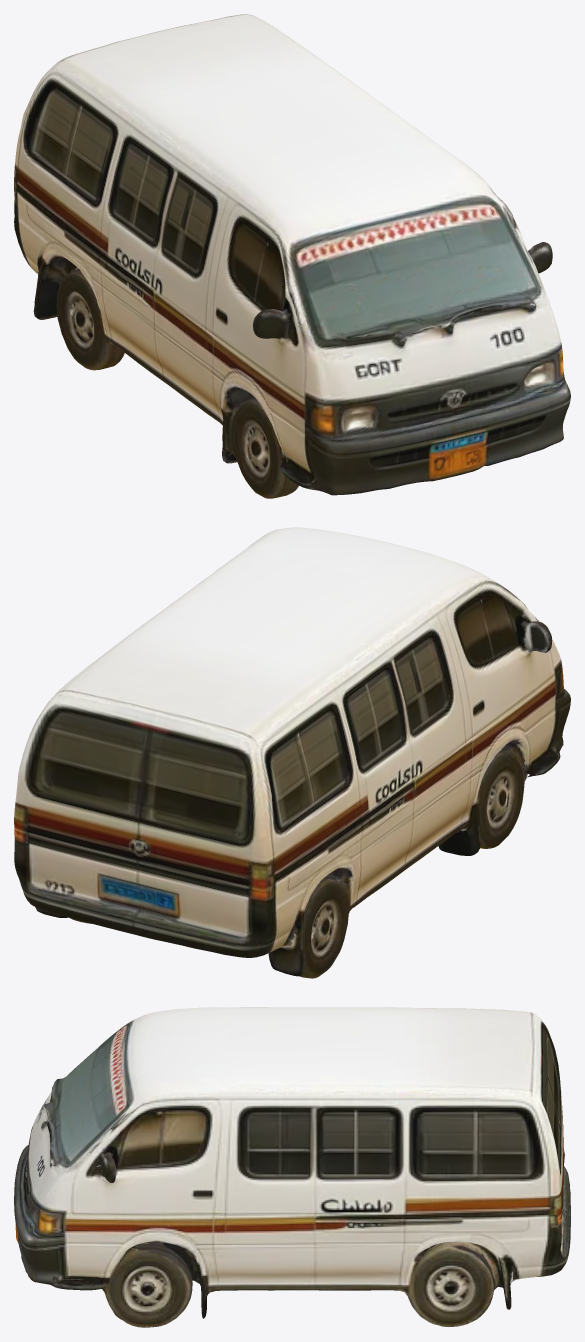
The model's file is bus-van.glb.
The picture shows the model from 3 angles, top to bottom: view 1: azimuth 30°, elevation 25°; view 2: azimuth 150°, elevation 25°; view 3: azimuth 270°, elevation 25°; orthographic projection. The views are drawn at different scales.
Parts seen in each view (by area): view 1: Van_0; view 2: Van_0; view 3: Van_0.
Part boxes in pixels (left/top/right/bottom): Van_0: left=14, top=14, right=570, bottom=498; Van_0: left=14, top=527, right=570, bottom=978; Van_0: left=14, top=1007, right=570, bottom=1327.
Size of the model in its own units: 5 by 4.5 by 9.52.
1 material, 1 textured.
